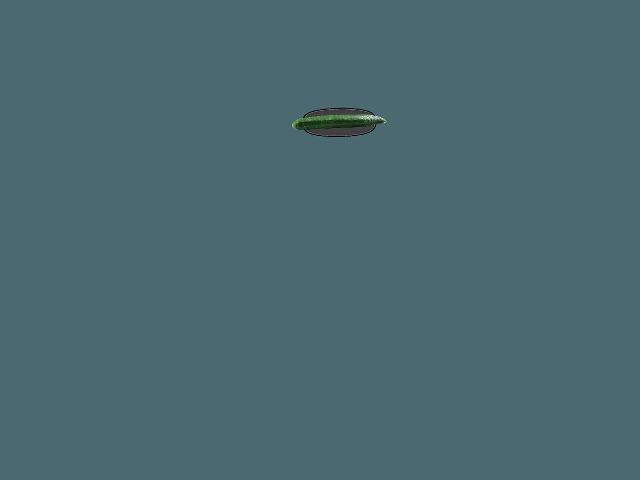cucumber: (292, 115, 387, 130)
